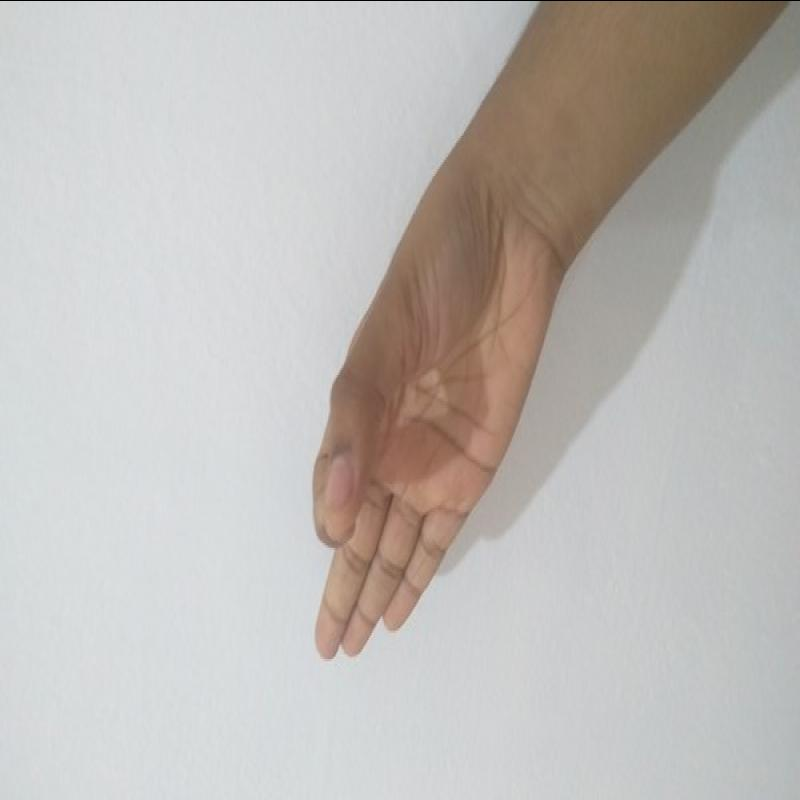Mudraakhyam: (284, 166, 578, 672)
